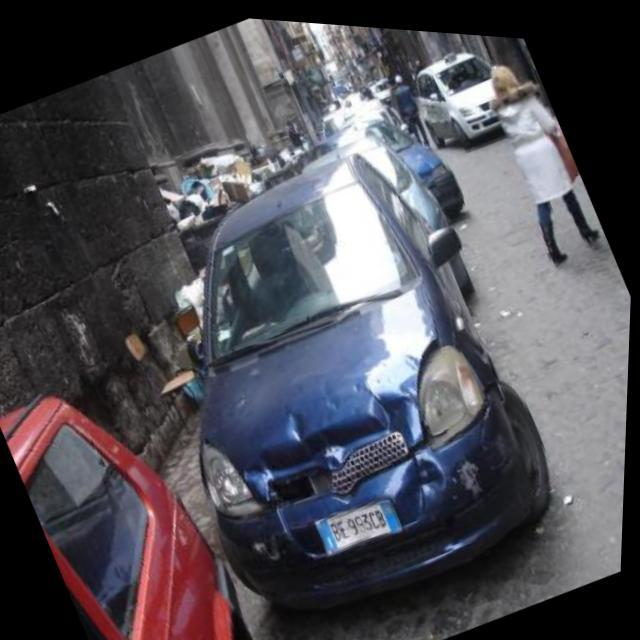license_plate: (317, 483, 408, 558)
